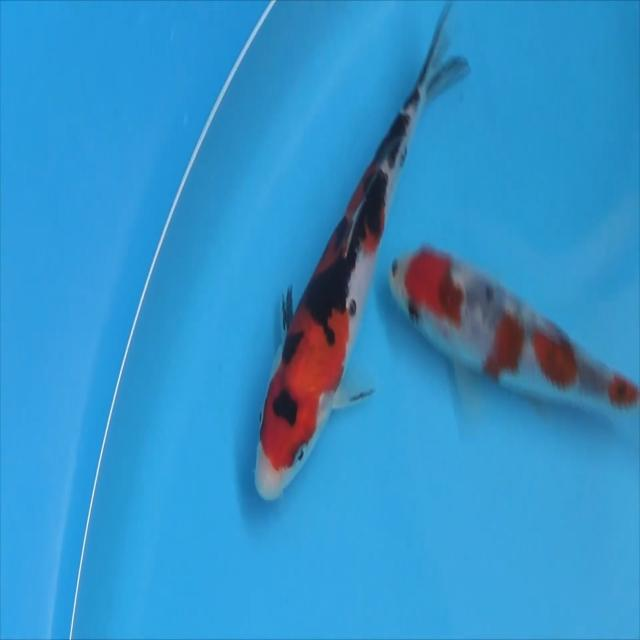Sanke: (253, 0, 471, 502), (389, 243, 638, 422)
